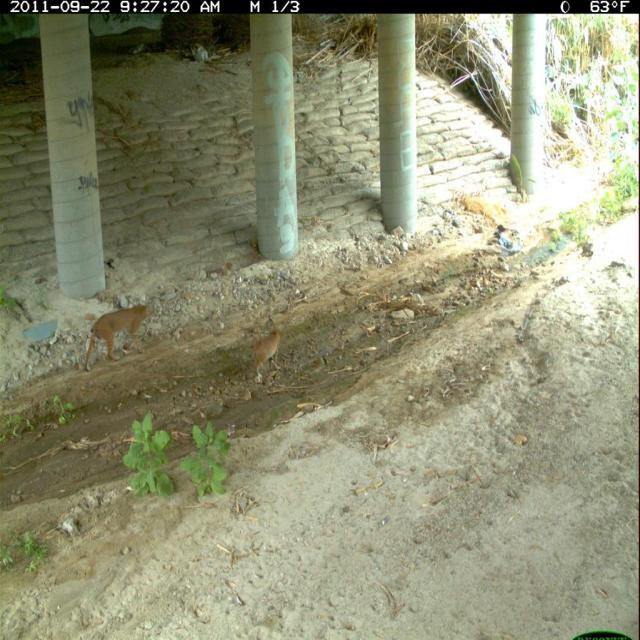bobcat: (81, 297, 154, 378), (245, 324, 285, 385)
